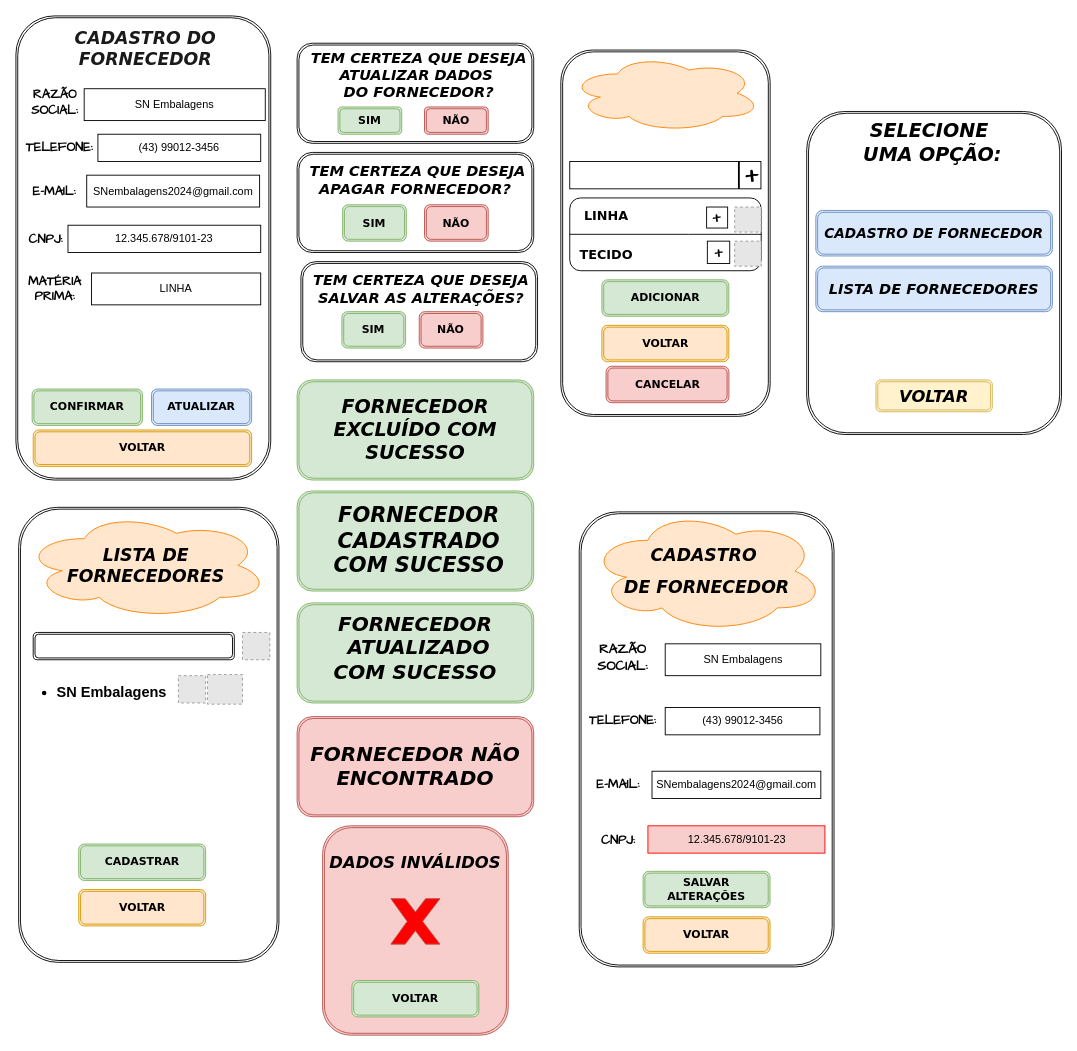
The diagram is 1077 pixels wide and 1051 high, and some of its shapes have lost their labels. Grey dashed boxes stand in for pictures. Each missing label, with the centre of its shape:
"MATÉRIA PRIMA" goes at point 665,93.
"SN..." goes at point 133,646.
